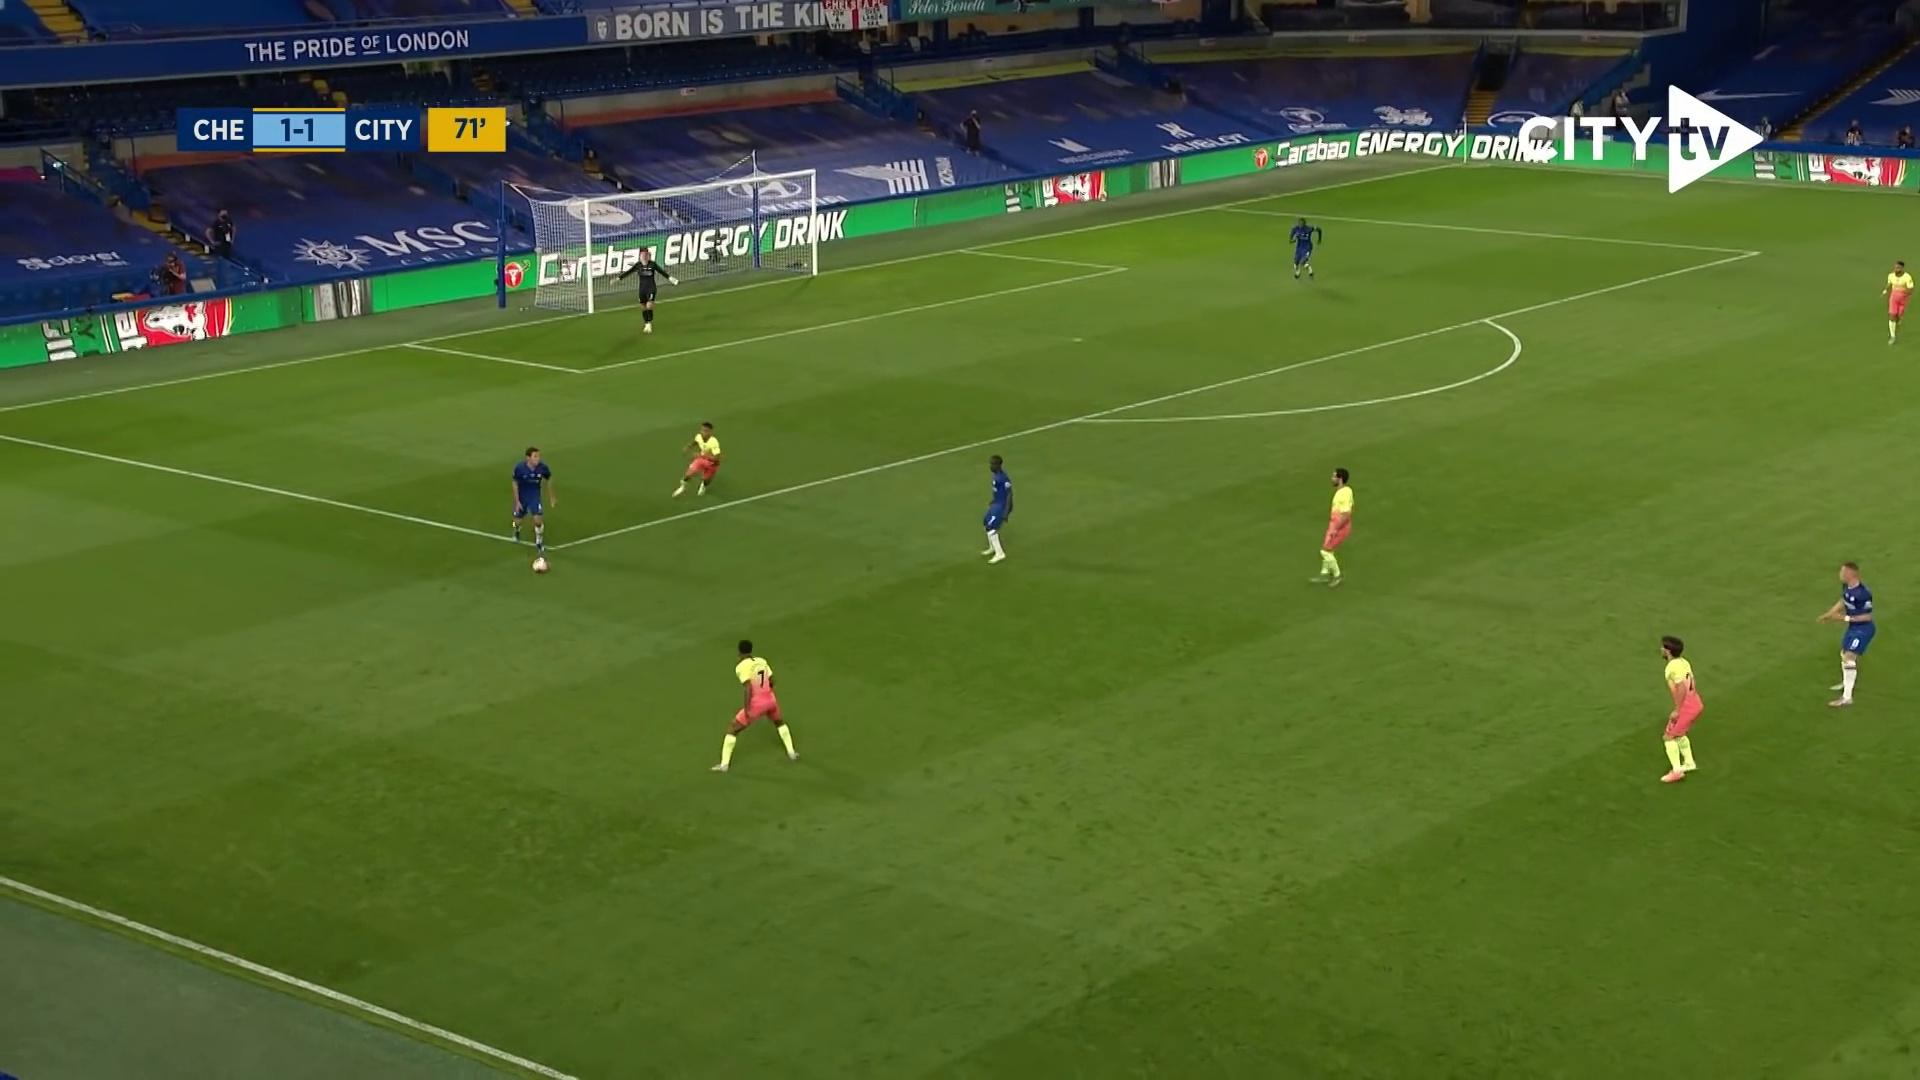ball: (531, 556, 550, 575)
